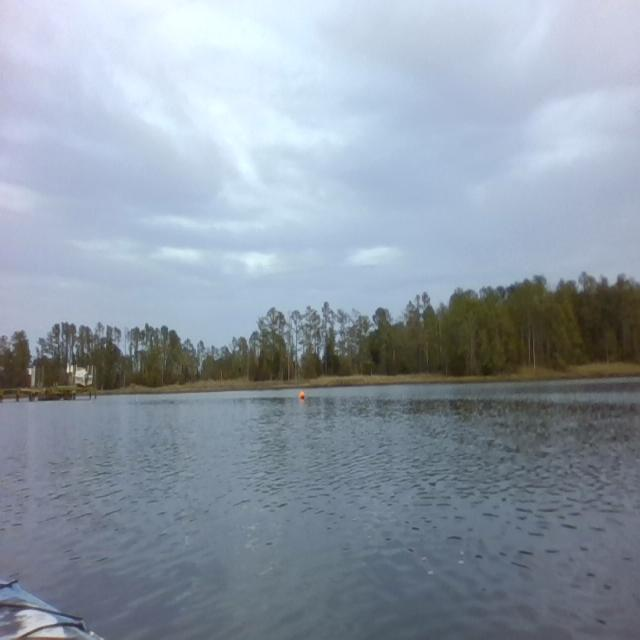Buoy: (299, 388, 306, 402)
